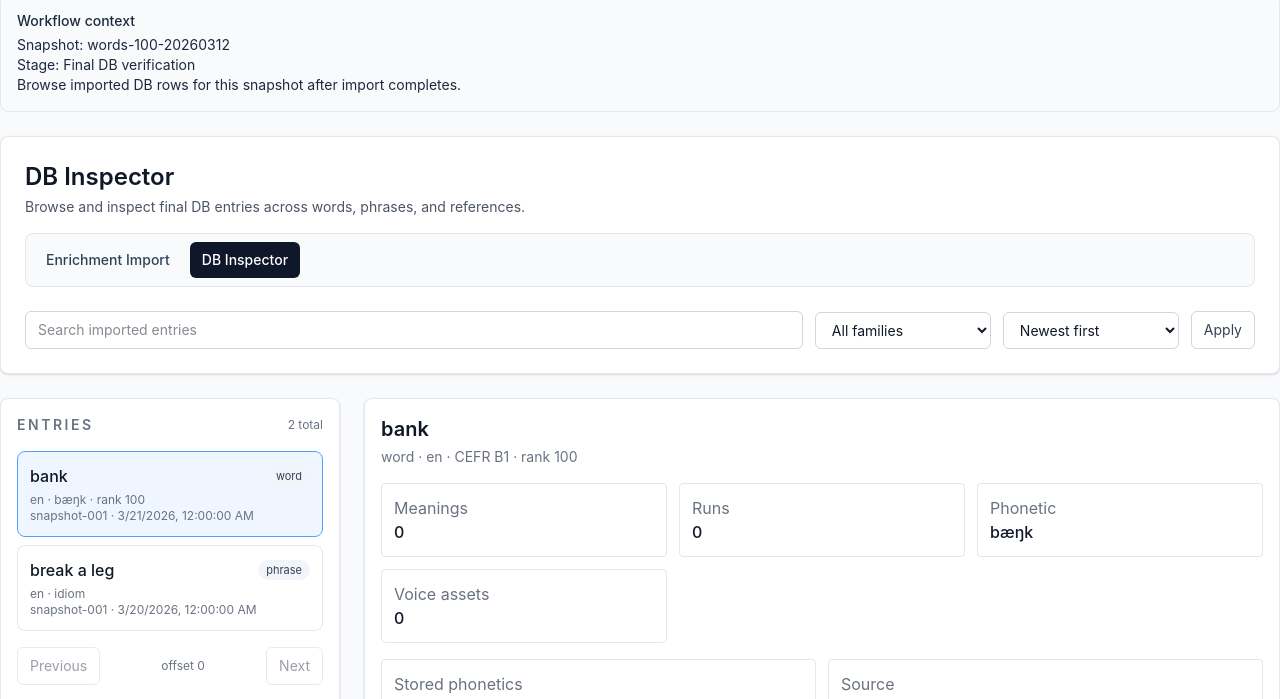
Test case: LexiconDbInspectorPage › renders phrase senses with grouped examples and translations
The image size is (1280, 699).
Click the button "break a leg": click(72, 570) [17,545,323,631]
(page scrolled)
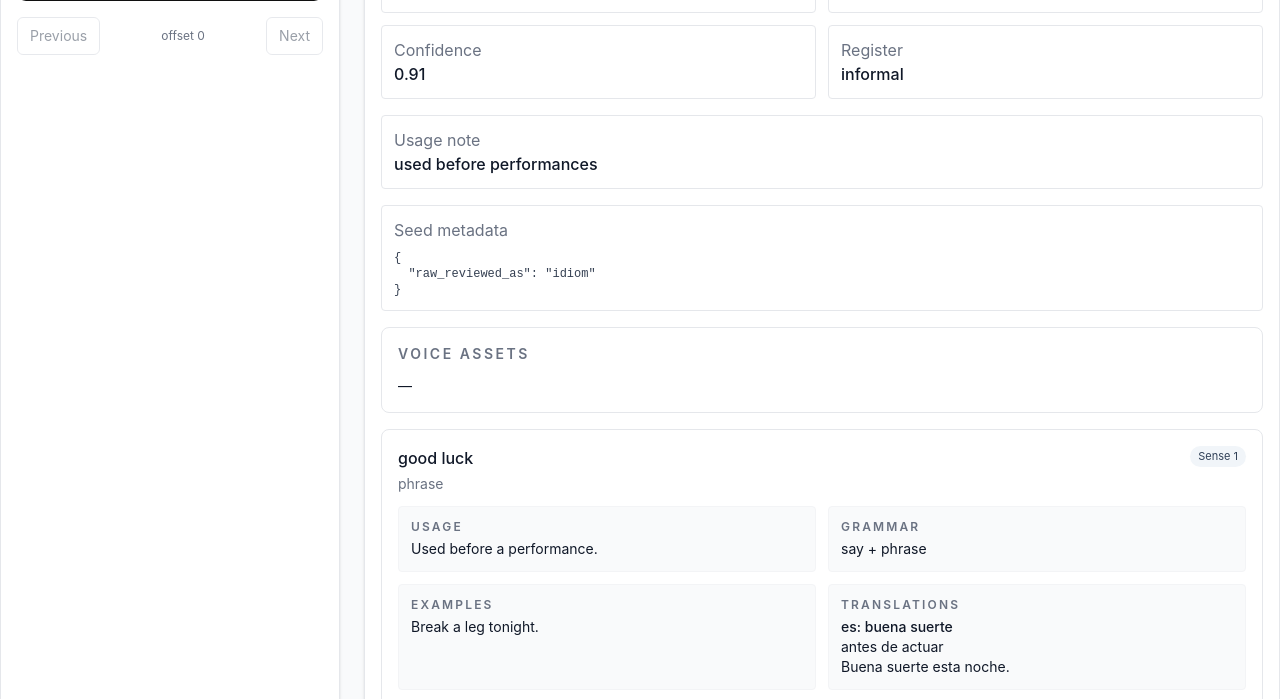
Expected: the text "good luck" is shown, [398,446,473,470]
Expected: the text "Seed metadata" is shown, [394,220,508,240]
Expected: the text "Break a leg tonight." is shown, [411,618,539,635]
